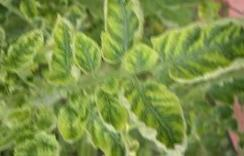Tomato leaf yellow virus: (122, 73, 197, 156), (168, 6, 244, 86), (95, 0, 146, 64), (49, 9, 86, 84), (7, 31, 43, 77), (98, 91, 133, 136), (58, 95, 90, 144), (13, 125, 56, 156), (74, 35, 103, 77), (22, 0, 41, 25)
